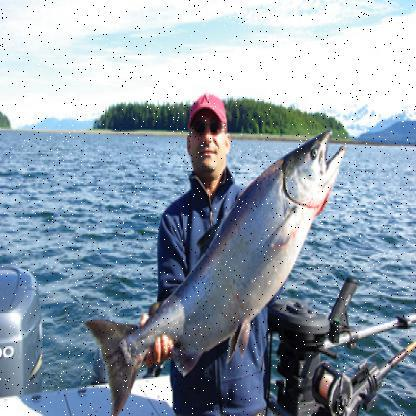fish: (85, 128, 341, 414)
